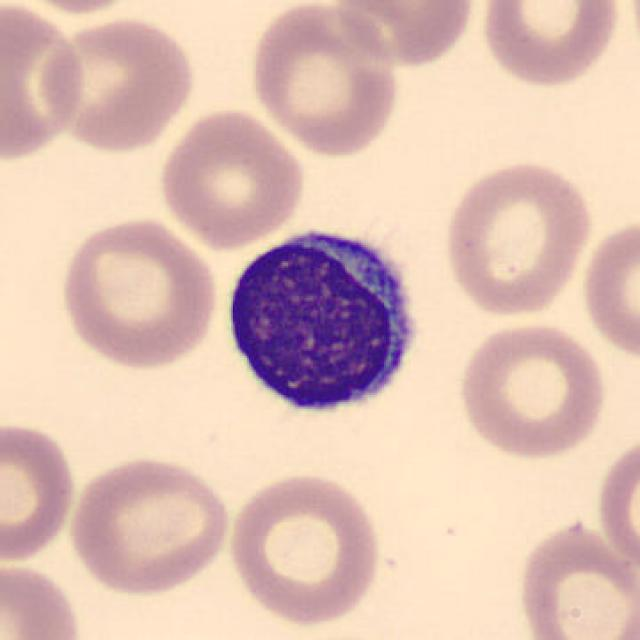Lymphocyte: (214, 217, 428, 428)
RBC: (54, 212, 222, 372), (224, 467, 386, 628), (439, 155, 597, 319), (62, 451, 235, 598), (246, 0, 404, 159), (454, 317, 612, 462), (38, 12, 198, 155), (155, 104, 309, 250), (512, 516, 638, 640), (0, 0, 89, 166), (476, 0, 624, 92), (0, 416, 80, 566), (331, 0, 480, 71), (578, 212, 638, 362), (0, 557, 87, 640), (592, 428, 638, 580), (9, 0, 155, 16)
